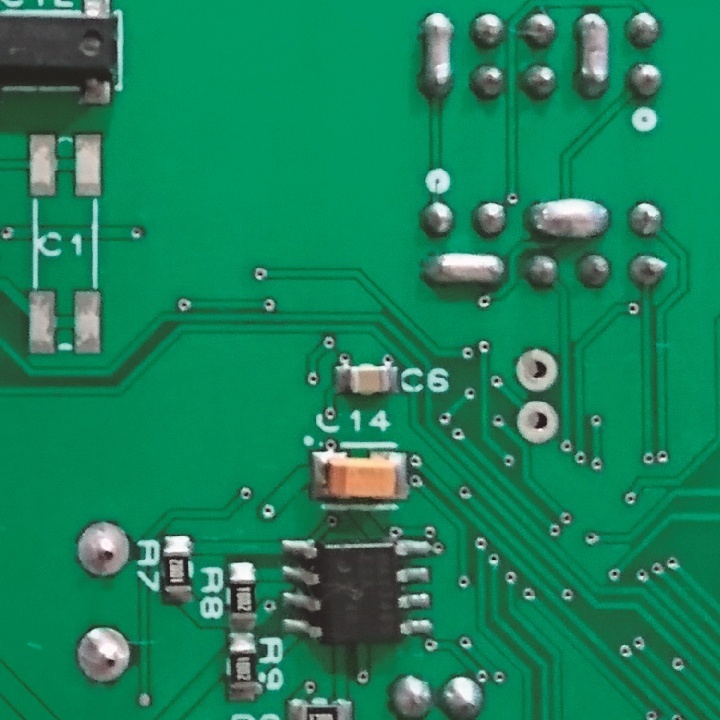F: (73, 621, 131, 688), (73, 516, 131, 578), (514, 395, 560, 447), (513, 346, 561, 394)
P: (521, 195, 614, 244), (569, 9, 613, 101), (413, 11, 458, 99), (418, 247, 510, 289)
